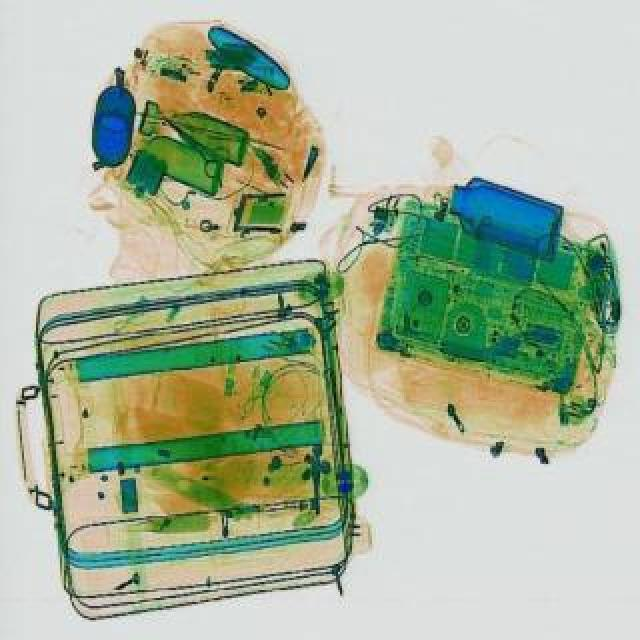pliers: (150, 106, 238, 186)
